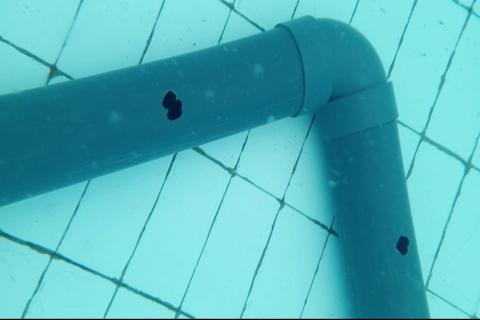kebocoran: (161, 89, 183, 123), (395, 235, 410, 257)
